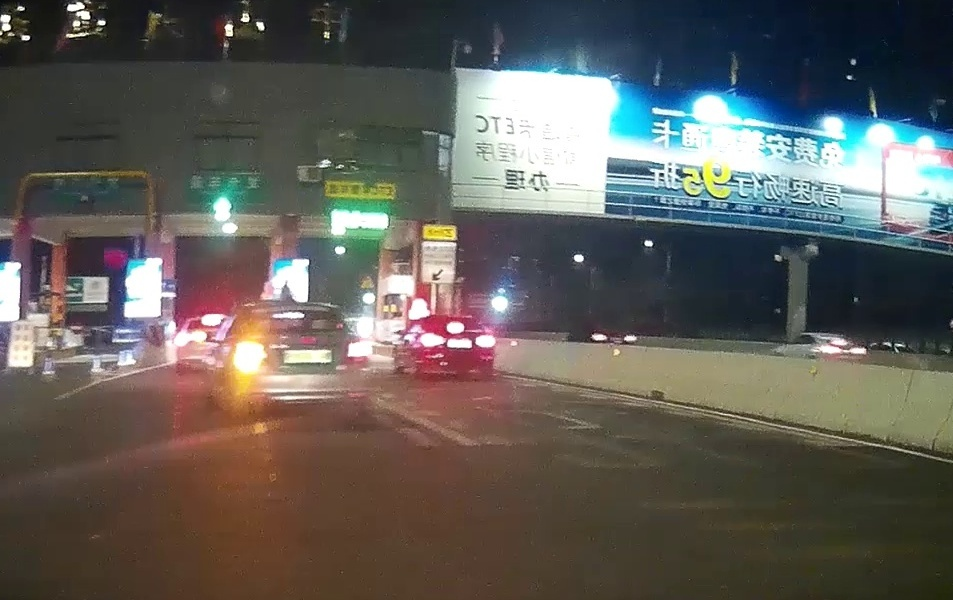L_light: (232, 342, 262, 372), (420, 333, 444, 347)
R_light: (341, 338, 369, 365), (475, 334, 496, 348)
T_light: (282, 310, 306, 319), (446, 323, 465, 332)
night-brake: (415, 315, 497, 382)
night-left: (230, 300, 372, 418)
